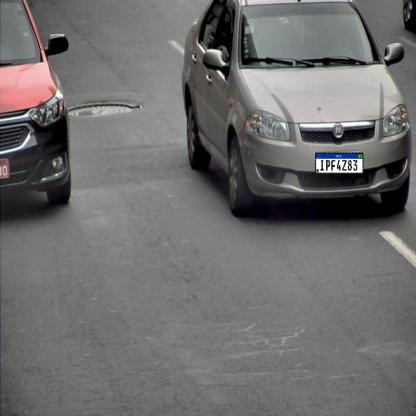PlacaM: (315, 153, 364, 174)
